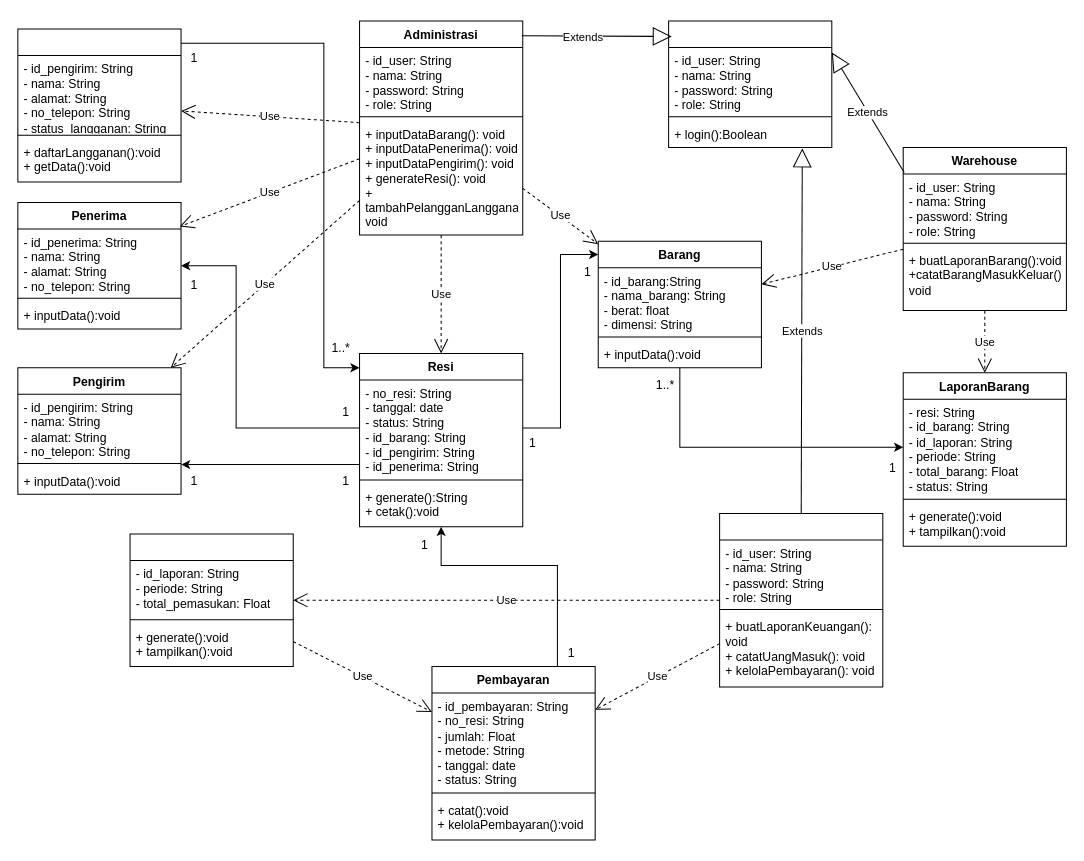
Some shapes in this 1084 by 861 pixel diagram are drawn without their labels. The shapes that lost their labels are listed below. From the top down, each one's box as (x1, y1, x2, y2) in pixels, then its label:
(668, 20, 832, 147): <<abstract>> User
(17, 28, 181, 182): Pelanggan
(129, 533, 293, 667): LaporanKeuangan
(719, 513, 883, 687): Kasir
